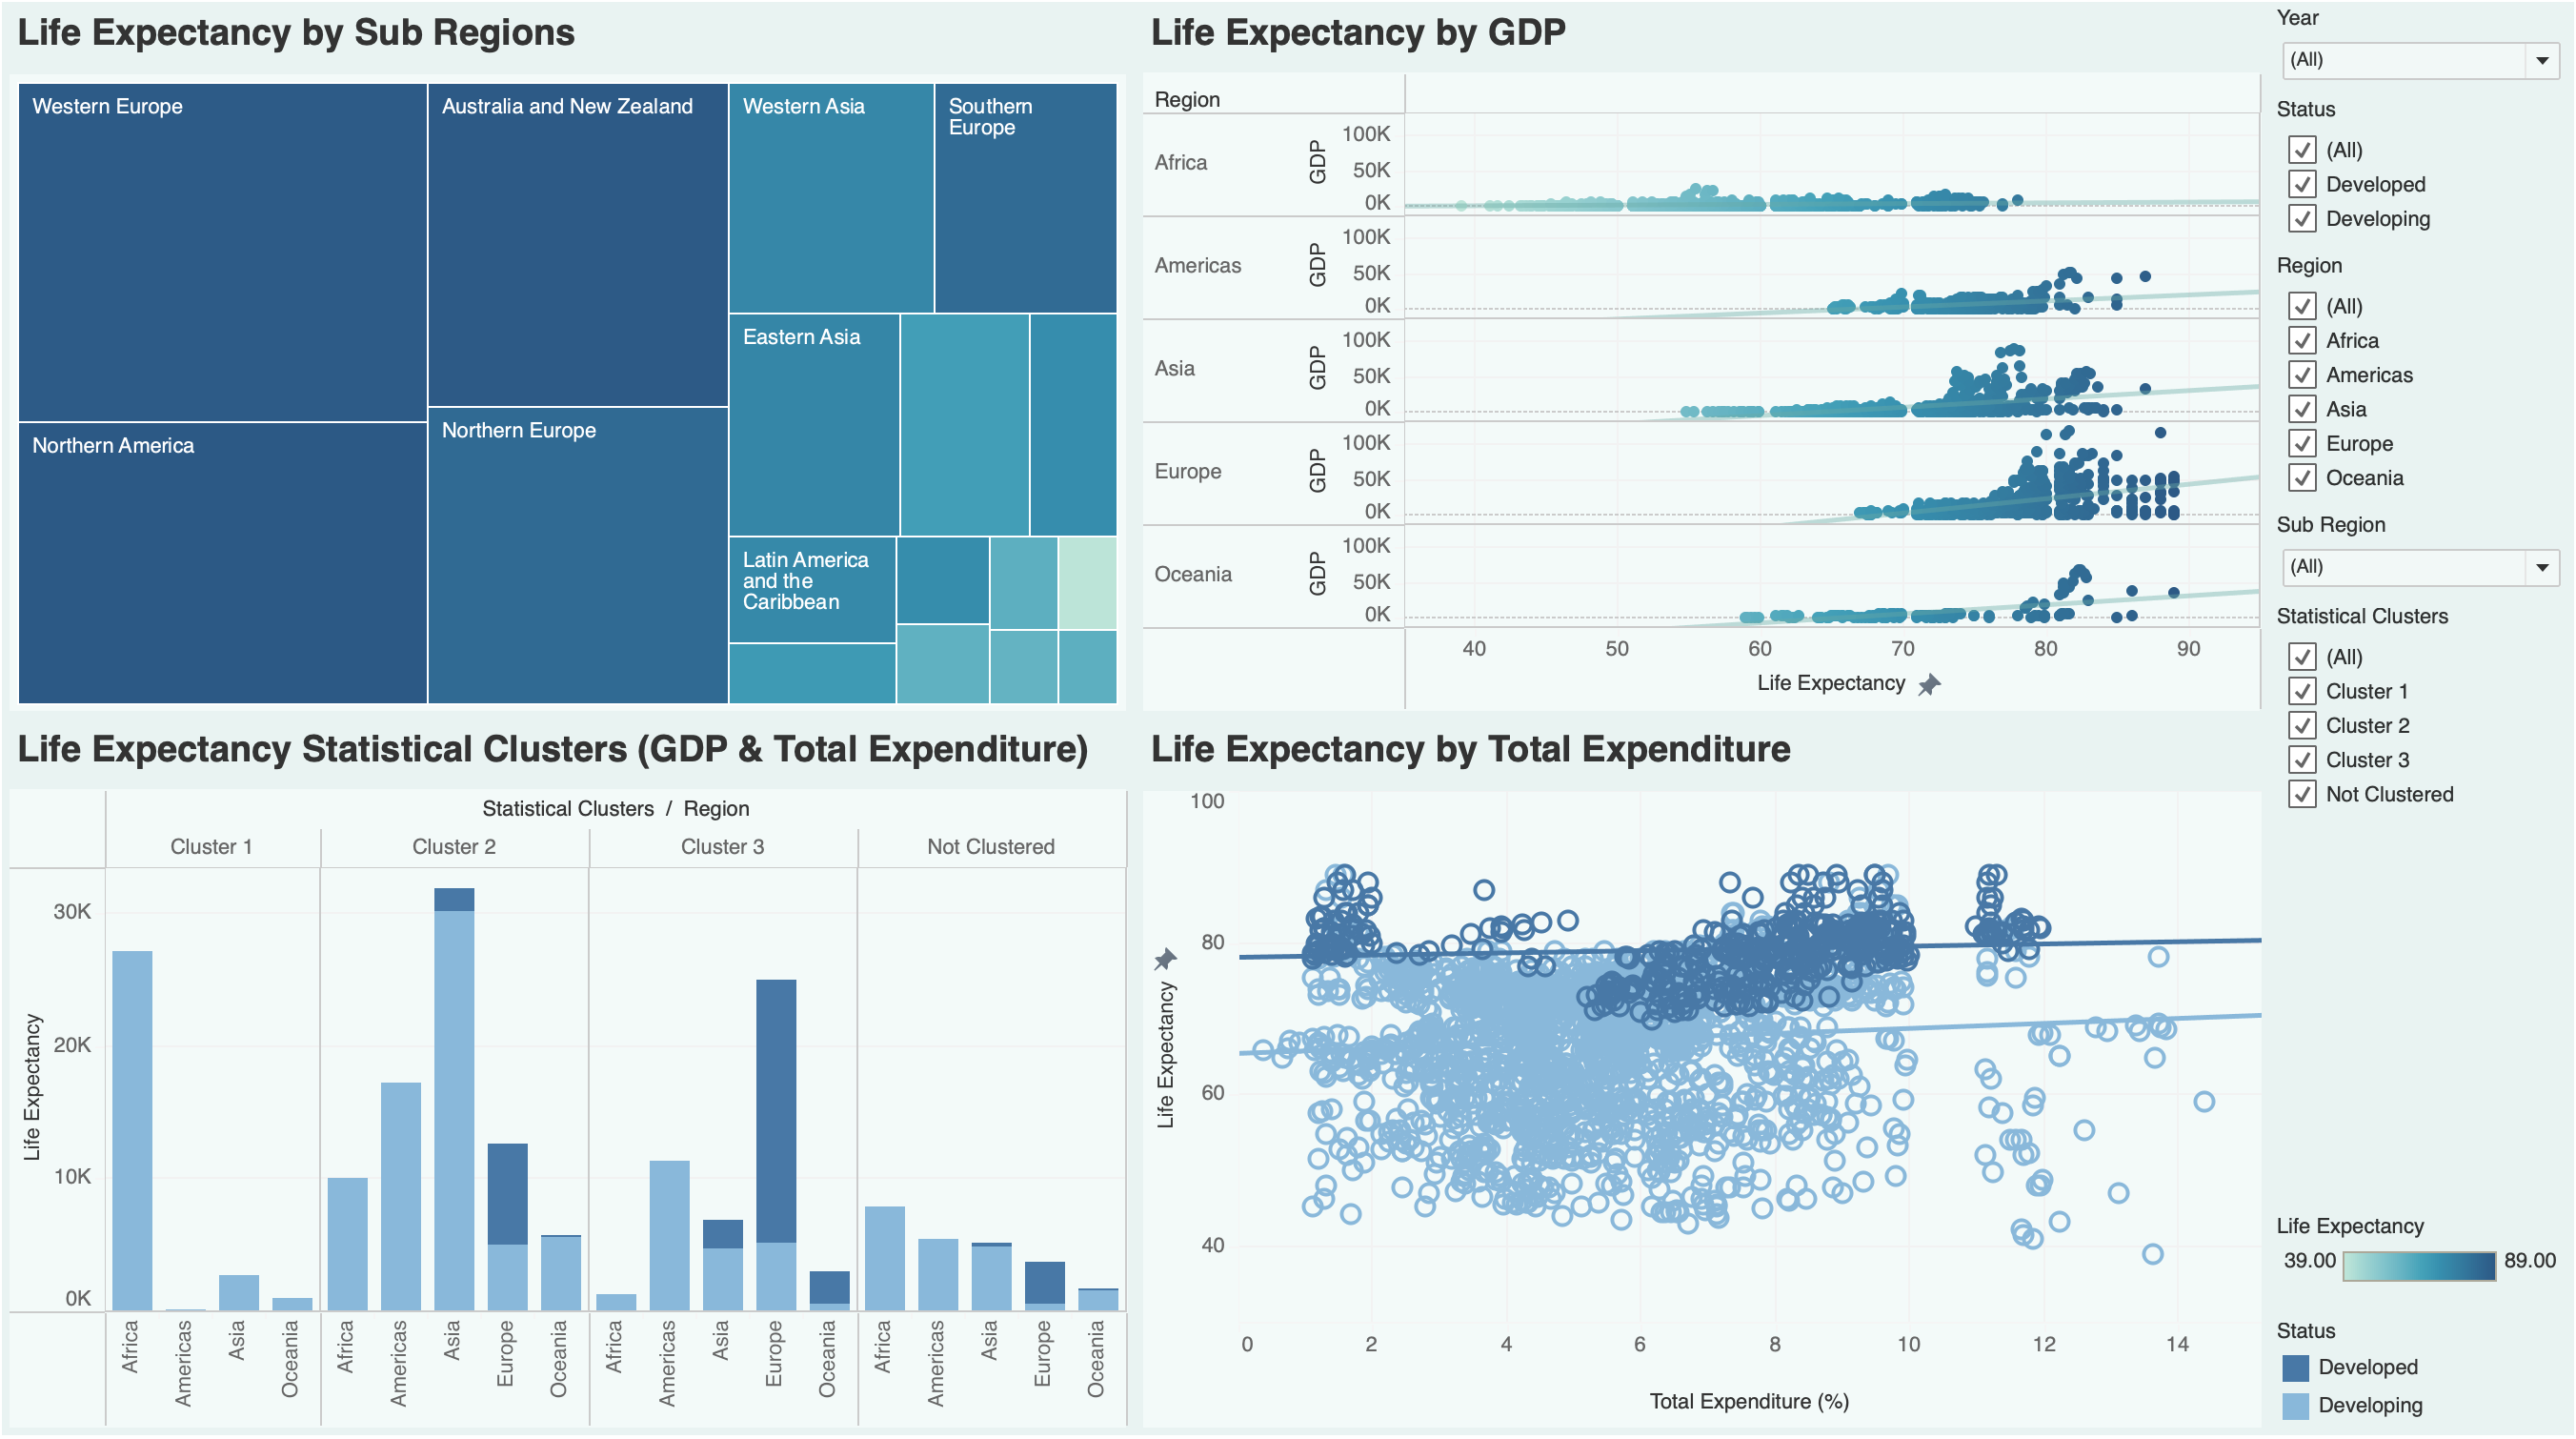

Layout of this report page (visuals, bound fields, positions):
{"tool":"tableau","page":{"name":"Life Expectancy Infographic","canvas":[1366,768],"ordinal":0},"visuals":[{"type":"worksheet","box":[0,0,1366,768]},{"type":"worksheet","param":"horz","box":[8,8,1350,752]},{"type":"worksheet","box":[8,8,1190,752]},{"type":"worksheet","title":"Sub Regions","mark":"Automatic","box":[8,8,595,376]},{"type":"worksheet","title":"GDP","mark":"Circle","rows":["Region","GDP"],"cols":["LifeExpectancy"],"box":[603,8,595,376]},{"type":"worksheet","param":"vert","box":[1198,8,160,752]},{"type":"worksheet","title":"GDP","mark":"Circle","rows":["Region","GDP"],"cols":["LifeExpectancy"],"param":"[federated.0hbzbco1io9a6k173inqk13mvx46].[none:Year:ok]","box":[1198,8,160,48]},{"type":"worksheet","title":"Total Expenditure","mark":"Automatic","rows":["LifeExpectancy"],"cols":["TotalExpenditure"],"param":"[federated.0hbzbco1io9a6k173inqk13mvx46].[none:Status:nk]","box":[1198,56,160,82]},{"type":"worksheet","title":"Total Expenditure","mark":"Automatic","rows":["LifeExpectancy"],"cols":["TotalExpenditure"],"param":"[federated.0hbzbco1io9a6k173inqk13mvx46].[none:Region:nk]","box":[1198,138,160,136]},{"type":"worksheet","title":"Total Expenditure","mark":"Automatic","rows":["LifeExpectancy"],"cols":["TotalExpenditure"],"param":"[federated.0hbzbco1io9a6k173inqk13mvx46].[none:SubRegion:nk]","box":[1198,274,160,48]},{"type":"worksheet","title":"GDP & Total Expenditure","mark":"Bar","rows":["LifeExpectancy"],"cols":["Region"],"param":"[federated.0hbzbco1io9a6k173inqk13mvx46].[GDP, Total Expenditure (%), Life Expec","box":[1198,322,160,118]},{"type":"worksheet","title":"GDP & Total Expenditure","mark":"Bar","rows":["LifeExpectancy"],"cols":["Region"],"box":[8,384,595,376]},{"type":"worksheet","title":"Total Expenditure","mark":"Automatic","rows":["LifeExpectancy"],"cols":["TotalExpenditure"],"box":[603,384,595,376]},{"type":"worksheet","box":[1198,440,160,202]},{"type":"worksheet","title":"GDP","mark":"Circle","rows":["Region","GDP"],"cols":["LifeExpectancy"],"param":"[federated.0hbzbco1io9a6k173inqk13mvx46].[sum:LifeExpectancy:qk]","box":[1198,642,160,55]},{"type":"worksheet","title":"GDP & Total Expenditure","mark":"Bar","rows":["LifeExpectancy"],"cols":["Region"],"param":"[federated.0hbzbco1io9a6k173inqk13mvx46].[none:Status:nk]","box":[1198,697,160,62]}]}

Visuals, with their boxes in screenshot pixels (x1, y1, x2, y2), scaled from the page's 1366x768 canvas onto the 2576x1439 screenshot:
worksheet: select_region(0, 0, 2575, 1438)
worksheet: select_region(15, 15, 2561, 1424)
worksheet: select_region(15, 15, 2259, 1424)
"Sub Regions" worksheet: select_region(15, 15, 1137, 719)
"GDP" worksheet (Circle marks): select_region(1137, 15, 2259, 719)
worksheet: select_region(2259, 15, 2561, 1424)
"GDP" worksheet (Circle marks): select_region(2259, 15, 2561, 105)
"Total Expenditure" worksheet: select_region(2259, 105, 2561, 258)
"Total Expenditure" worksheet: select_region(2259, 258, 2561, 514)
"Total Expenditure" worksheet: select_region(2259, 514, 2561, 603)
"GDP & Total Expenditure" worksheet (Bar marks): select_region(2259, 603, 2561, 824)
"GDP & Total Expenditure" worksheet (Bar marks): select_region(15, 719, 1137, 1424)
"Total Expenditure" worksheet: select_region(1137, 719, 2259, 1424)
worksheet: select_region(2259, 824, 2561, 1203)
"GDP" worksheet (Circle marks): select_region(2259, 1203, 2561, 1306)
"GDP & Total Expenditure" worksheet (Bar marks): select_region(2259, 1306, 2561, 1422)
